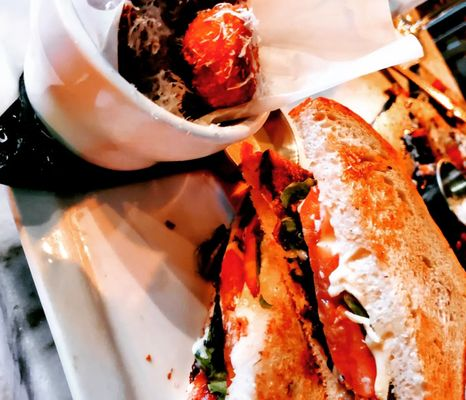soup: (198, 94, 466, 397)
